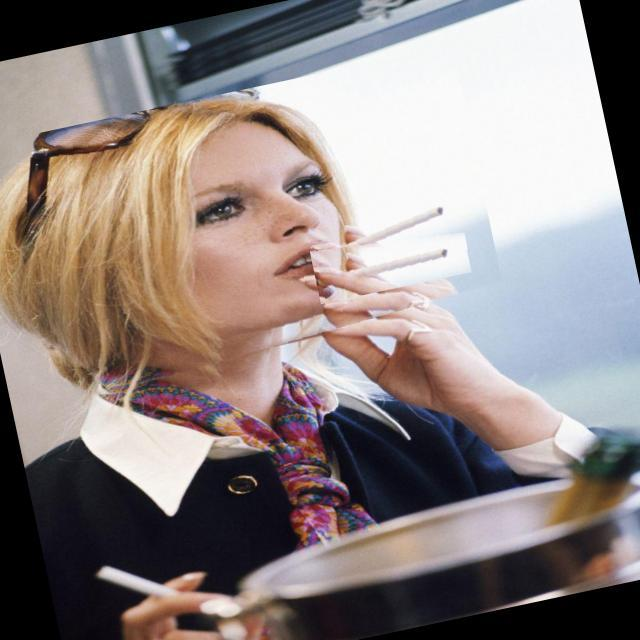cigarette: (310, 218, 472, 304)
